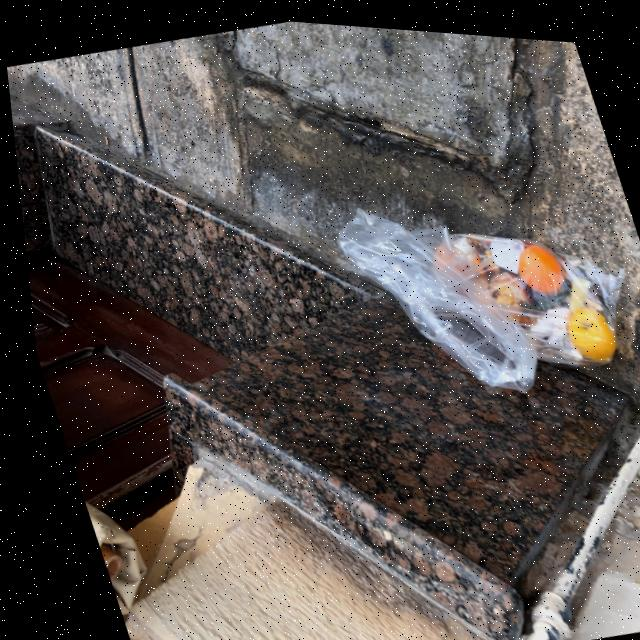Organic Waste -White Bag-: (309, 142, 640, 431)
